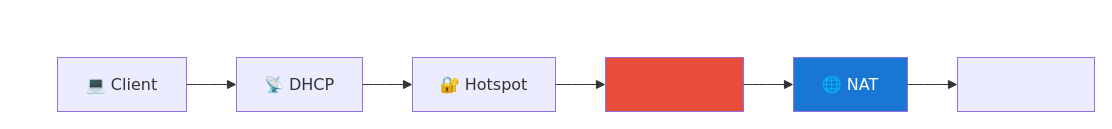
Some shapes in this 1112 by 129 pixel diagram are drawn without their labels. The centre of each missing label's shape, as x and y in pixels:
☁ Internet: point 1025,84
🛡 Firewall: point 674,84
